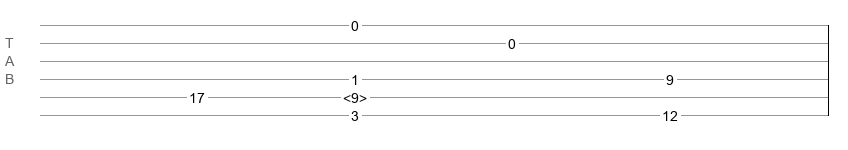0: (351, 18, 359, 28), (508, 36, 516, 46)
1: (351, 72, 359, 82)
12: (662, 108, 678, 118)
17: (189, 90, 205, 100)
3: (351, 108, 359, 118)
9: (666, 72, 674, 82)
harmonic: (343, 90, 367, 100)
